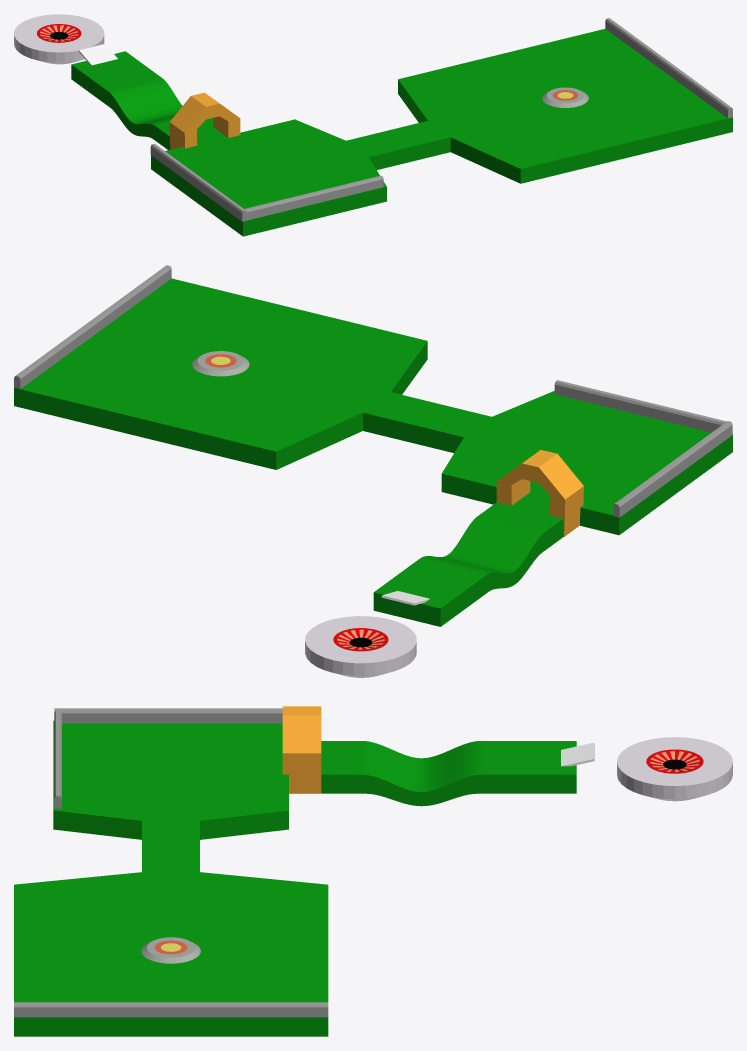
Rendered from TERRAIN2.fbx.
3 renders of one model, top to bottom at view 1: azimuth 30°, elevation 25°; view 2: azimuth 150°, elevation 25°; view 3: azimuth 270°, elevation 25°, orthographic. The views are drawn at different scales.
Visible parts, largest first — view 1: Cube.001, Cylinder; view 2: Cube.001, Cylinder; view 3: Cube.001, Cylinder.
Part boxes in pixels (x1,y1,x2,y2): Cube.001: [71, 18, 732, 236]; Cylinder: [14, 14, 104, 64]; Cube.001: [14, 265, 732, 626]; Cylinder: [305, 616, 416, 677]; Cube.001: [14, 706, 594, 1036]; Cylinder: [617, 737, 732, 801].
Bounding box in the file's own units: 1210 × 1183 × 146.
